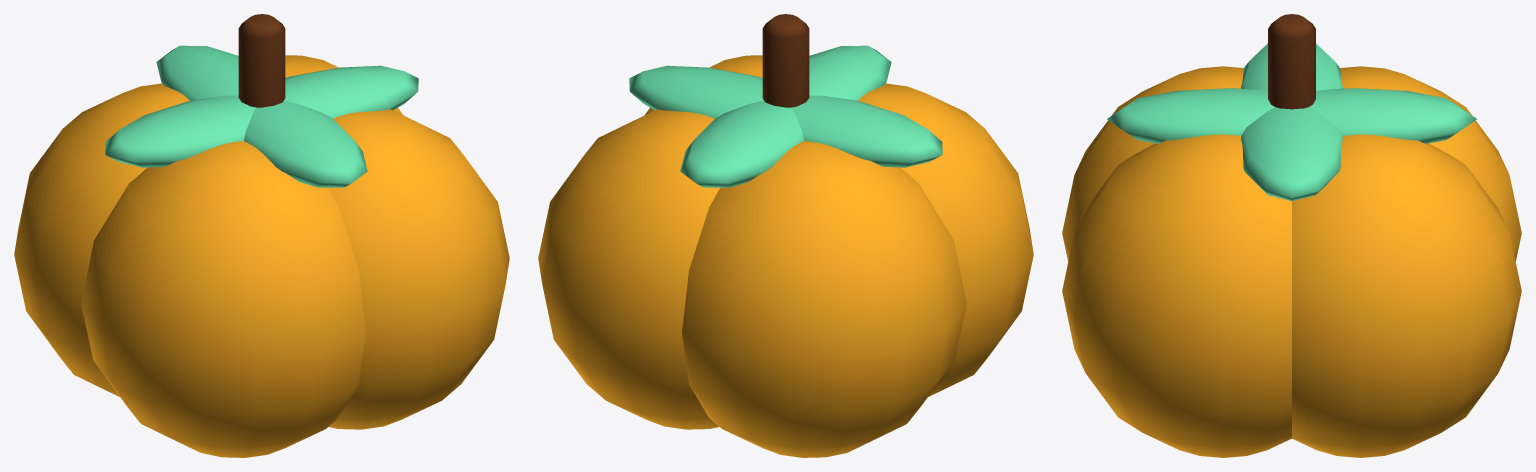
The model's file is persimmon.glb.
3 renders of one model, left to right at view 1: azimuth 30°, elevation 25°; view 2: azimuth 150°, elevation 25°; view 3: azimuth 270°, elevation 25°, orthographic. The views are drawn at different scales.
Visible parts, largest first — view 1: persimmon; view 2: persimmon; view 3: persimmon.
Boxes of the visible parts, x1=… form: persimmon: x1=14, y1=14, x2=509, y2=457; persimmon: x1=538, y1=14, x2=1033, y2=457; persimmon: x1=1062, y1=14, x2=1521, y2=457.
Size of the model in its own units: 1 by 0.9478 by 1.
1 material, 1 textured.
